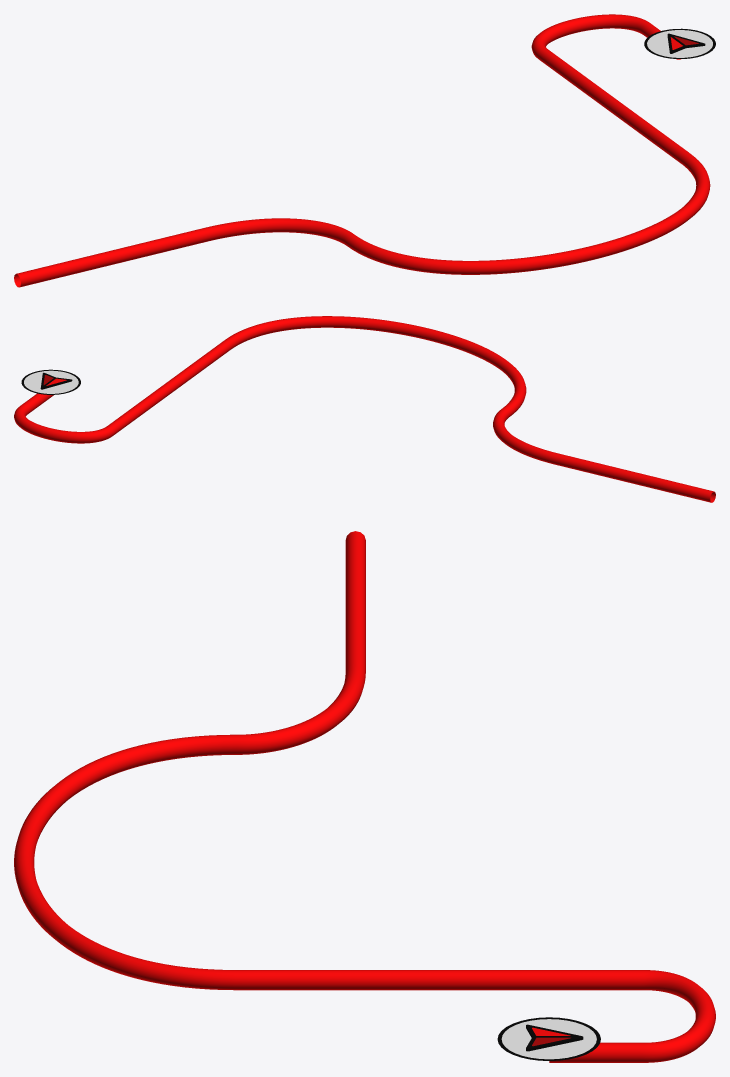
File: route_5256b992-2473-4f07-ab7e-e4cd75cb737d_de_single.glb
The picture shows the model from 3 angles, top to bottom: view 1: azimuth 30°, elevation 25°; view 2: azimuth 150°, elevation 25°; view 3: azimuth 270°, elevation 25°; orthographic projection. The views are drawn at different scales.
Visible parts, largest first — view 1: Chefärzte der inneren Medizin, Navipfeil.005; view 2: Chefärzte der inneren Medizin, Navipfeil.005; view 3: Chefärzte der inneren Medizin, Navipfeil.005.
Part boxes in pixels (x1,y1,x2,y2): Chefärzte der inneren Medizin: [14, 14, 710, 287]; Navipfeil.005: [644, 28, 715, 58]; Chefärzte der inneren Medizin: [14, 316, 715, 502]; Navipfeil.005: [21, 369, 80, 394]; Chefärzte der inneren Medizin: [14, 531, 715, 1062]; Navipfeil.005: [497, 1017, 600, 1060].
Size of the model in its own units: 4.99 by 0.109 by 2.77.
